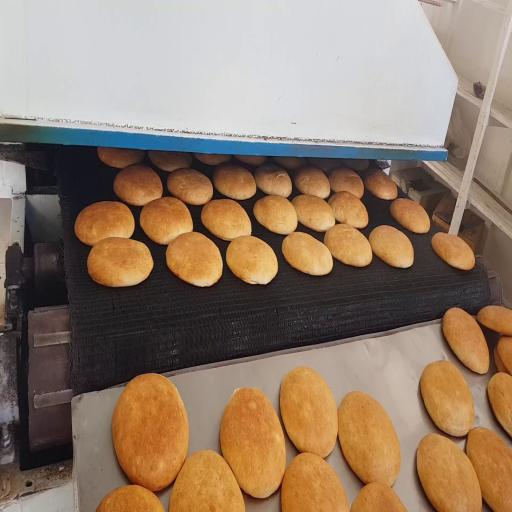bread: (112, 374, 188, 491), (220, 388, 285, 498), (339, 392, 400, 485), (280, 367, 337, 457), (417, 434, 481, 511), (170, 450, 245, 511), (420, 361, 474, 436), (282, 453, 349, 511), (467, 428, 511, 511), (87, 238, 153, 287), (443, 308, 489, 374), (166, 232, 222, 286), (75, 202, 134, 246), (140, 197, 193, 244), (226, 236, 277, 284), (282, 232, 333, 275), (201, 199, 251, 240), (324, 224, 372, 266), (114, 165, 162, 206), (369, 225, 414, 268), (96, 485, 164, 511), (167, 168, 213, 205), (254, 195, 297, 234), (432, 232, 475, 270), (292, 195, 335, 231), (351, 483, 406, 511), (213, 165, 256, 200), (488, 373, 511, 436), (328, 192, 368, 228), (390, 199, 430, 233), (255, 164, 291, 197), (294, 166, 330, 199), (329, 167, 363, 199), (477, 306, 511, 336), (148, 150, 192, 172), (98, 147, 144, 168), (365, 170, 397, 200), (497, 336, 511, 373), (308, 158, 342, 173), (274, 157, 306, 170), (194, 154, 230, 165), (494, 347, 509, 373), (342, 159, 369, 171), (235, 156, 266, 166)
